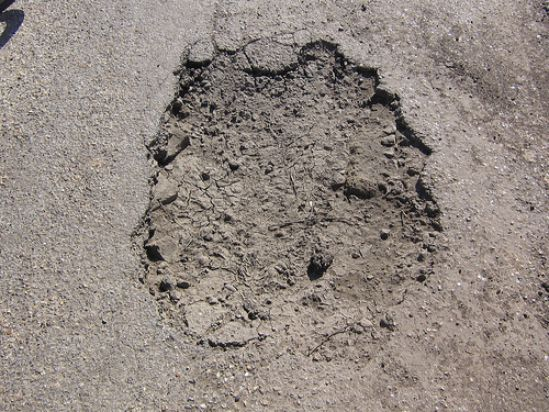pothole: (129, 24, 449, 372)
